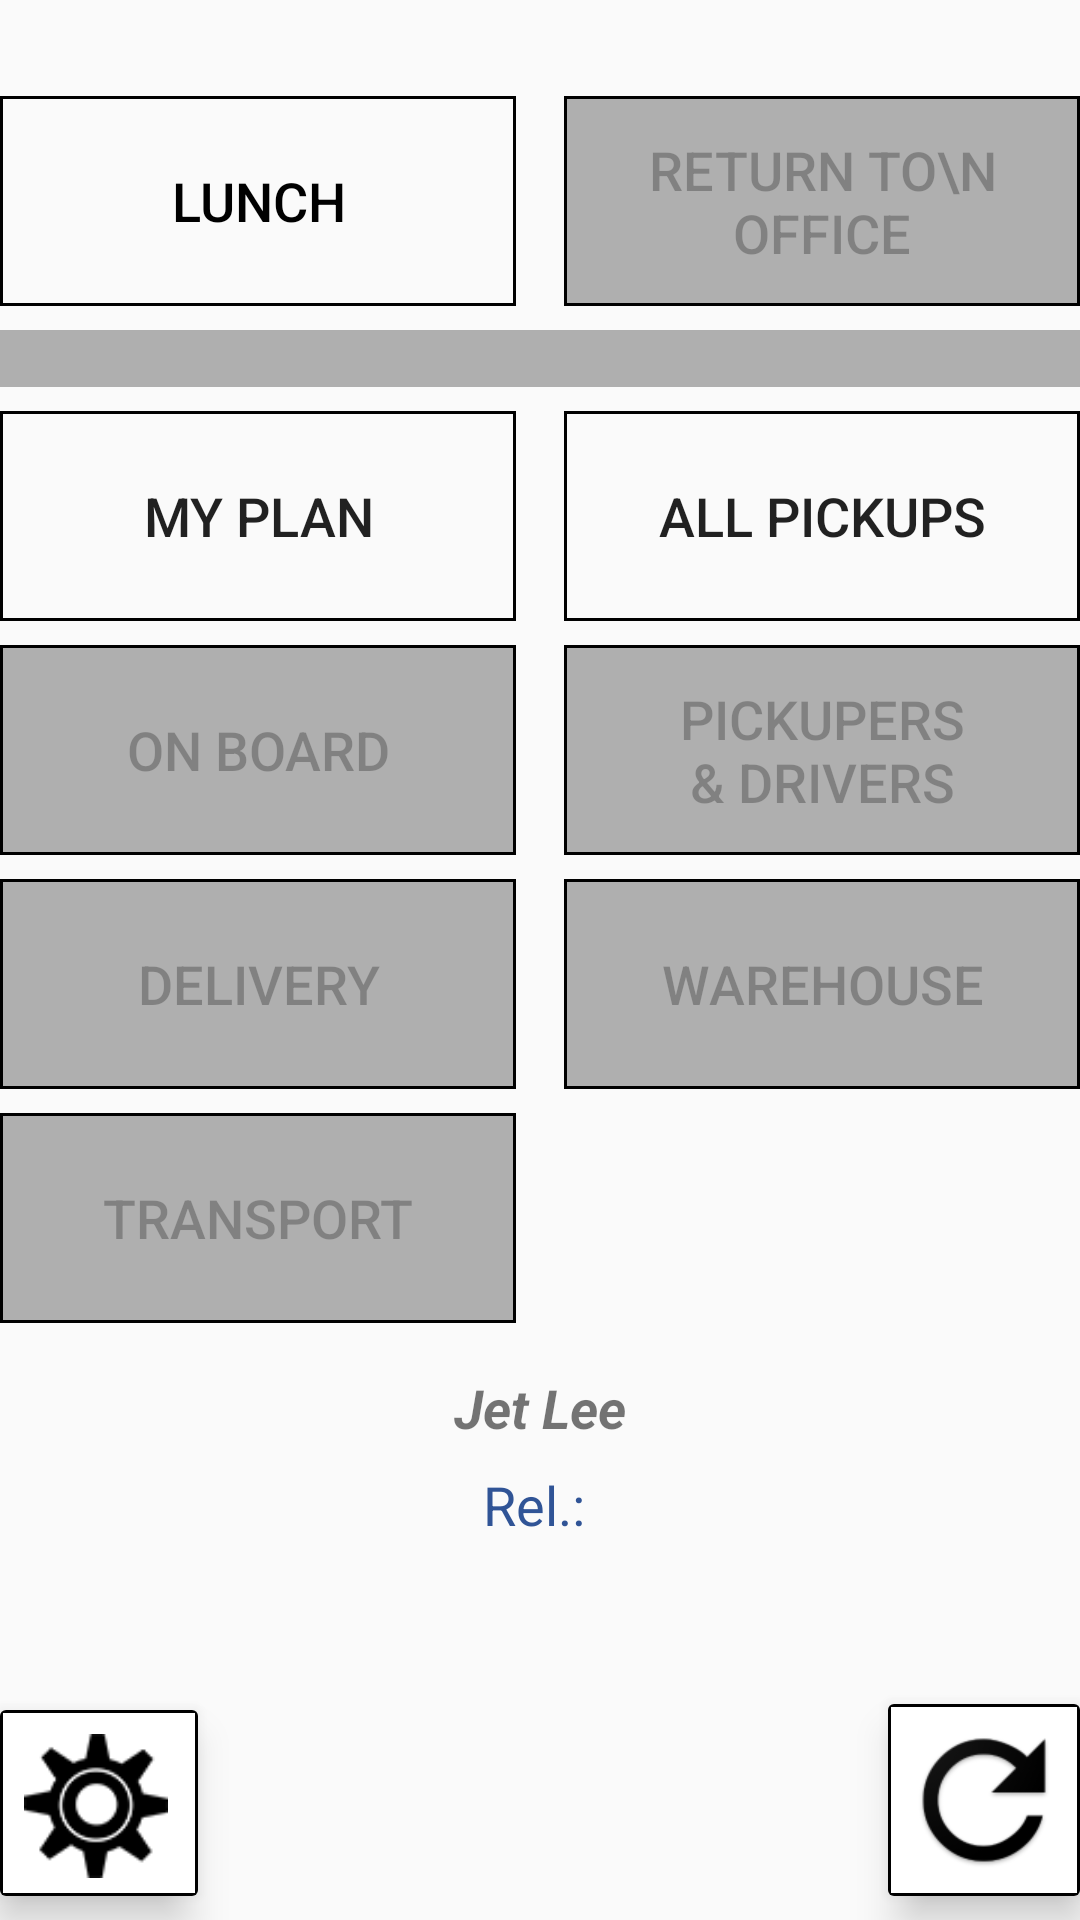

Icons on this 1080×1920 Android screen, each with its box as (x1, y1, x2, y2):
gear: (24, 1734, 168, 1878)
